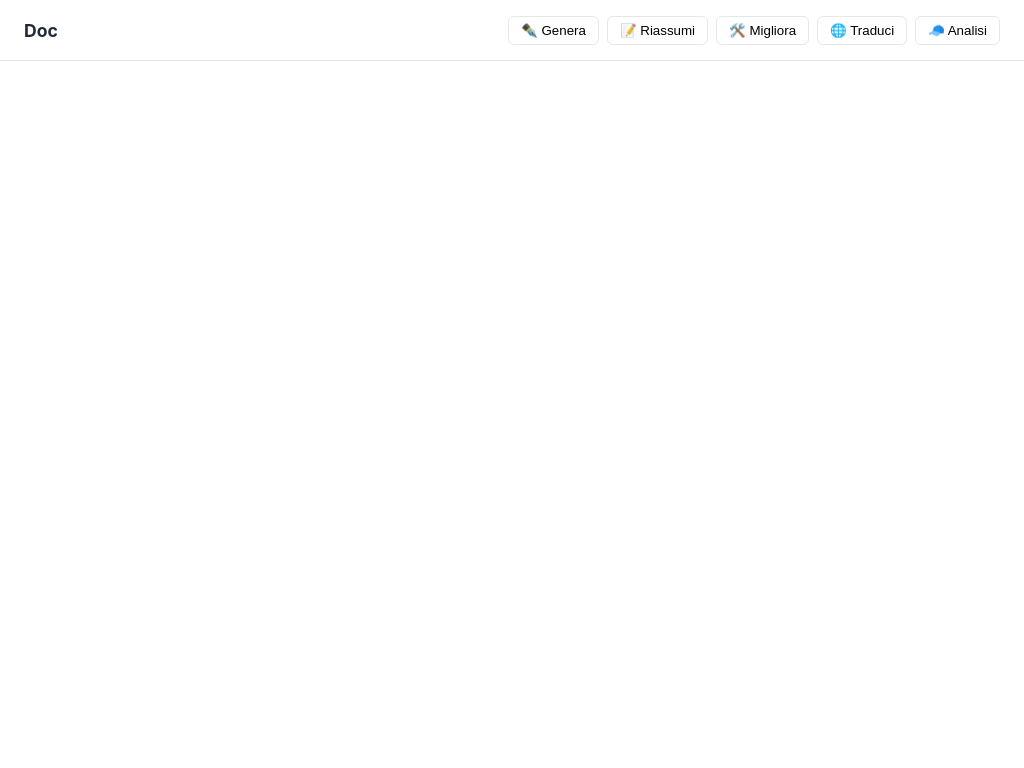
Test: TopBar › apre la finestra di generazione con avviso IA quando la similarità è alta
Click the button "✒️ Genera" at (554, 30), box [508,16,599,44]
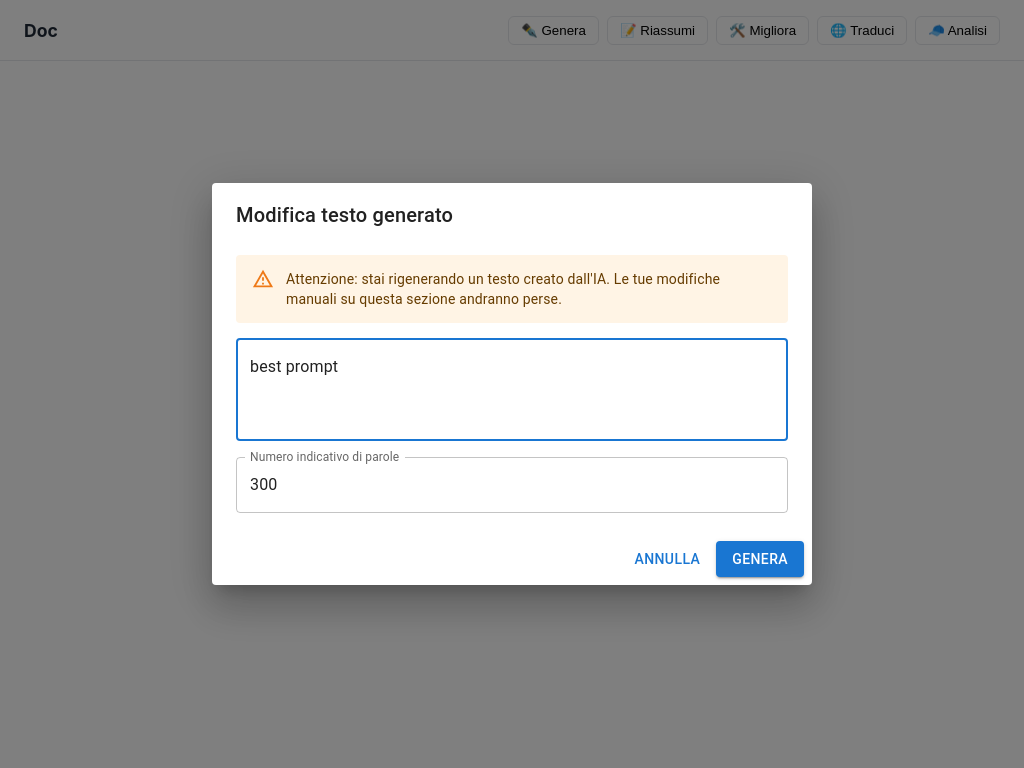
Check: the text "stai rigenerando un testo creato" is shown, box [286,271,720,307]
